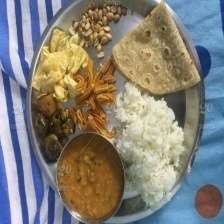roti: (110, 0, 204, 95)
